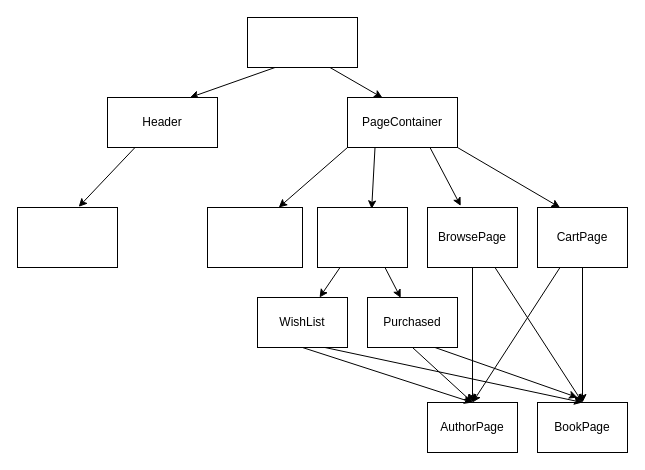
This 645x470 diagram has some shape labels left out. The shapes that lost their labels are listed below. From the top down, each one's centre as x and y in pixels, then its label:
At (302,42): "App".
At (67,237): "NavBar".
At (254,237): "LandingPage".
At (362,237): "UserPage".
